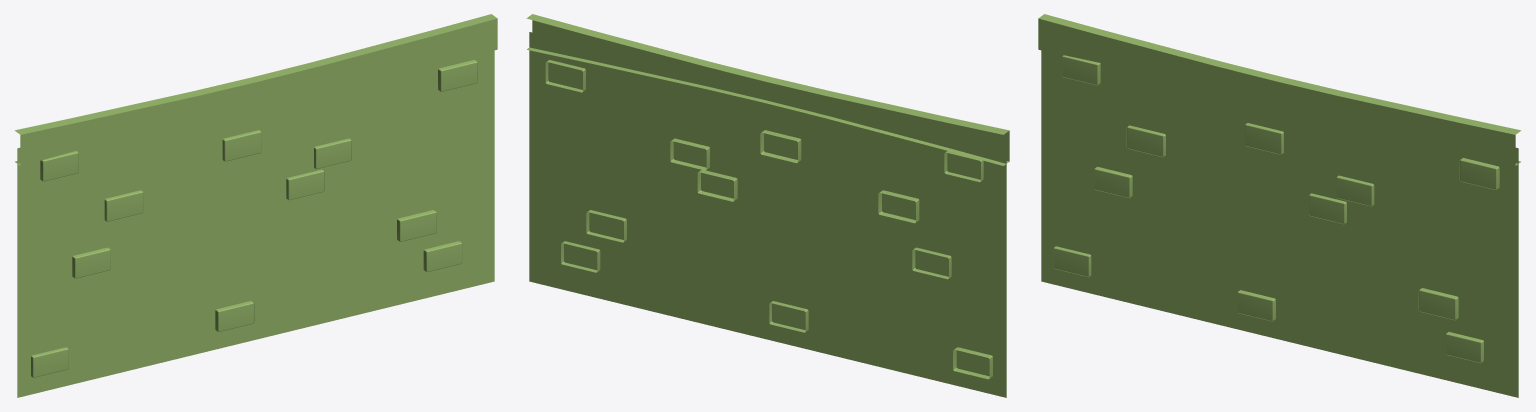
The model's file is Extended_Wall_Bricks.fbx.
3 views of the same model, side by side, from view 1: azimuth 30°, elevation 25°; view 2: azimuth 150°, elevation 25°; view 3: azimuth 330°, elevation 25° (orthographic).
Visible parts, largest first — view 1: Extended_Wall_Bricks; view 2: Extended_Wall_Bricks; view 3: Extended_Wall_Bricks.
Boxes of the visible parts, x1,y1,x2,y2 form: Extended_Wall_Bricks: [14, 14, 497, 397]; Extended_Wall_Bricks: [526, 14, 1009, 397]; Extended_Wall_Bricks: [1038, 14, 1521, 397].
Size of the model in its own units: 8 by 4.25 by 0.1907.
